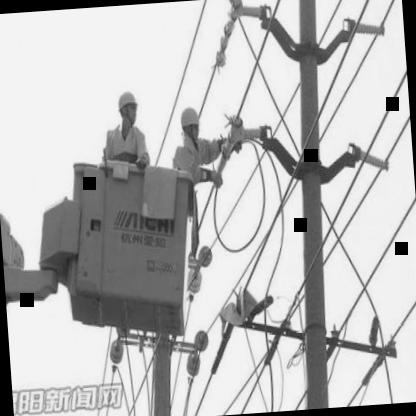helmet: (118, 86, 140, 130), (177, 103, 202, 141)
